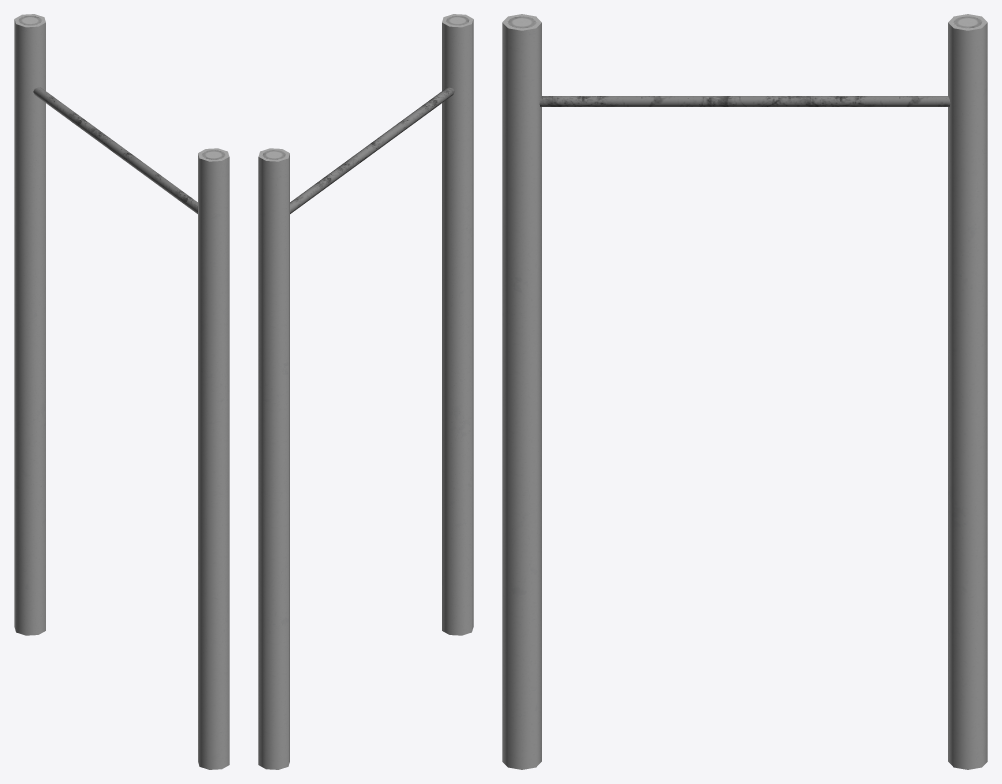
File: MB_Horizontal_Bar_02.fbx
3 views of the same model, side by side, from view 1: azimuth 30°, elevation 25°; view 2: azimuth 150°, elevation 25°; view 3: azimuth 270°, elevation 25° (orthographic). The views are drawn at different scales.
Visible parts, largest first — view 1: MB_Horizontal_Bar_02; view 2: MB_Horizontal_Bar_02; view 3: MB_Horizontal_Bar_02.
Part boxes in pixels (left/top/right/bottom): MB_Horizontal_Bar_02: left=14, top=14, right=229, bottom=769; MB_Horizontal_Bar_02: left=258, top=14, right=473, bottom=769; MB_Horizontal_Bar_02: left=502, top=14, right=987, bottom=769.
Size of the model in its own units: 14.34 by 294 by 175.
